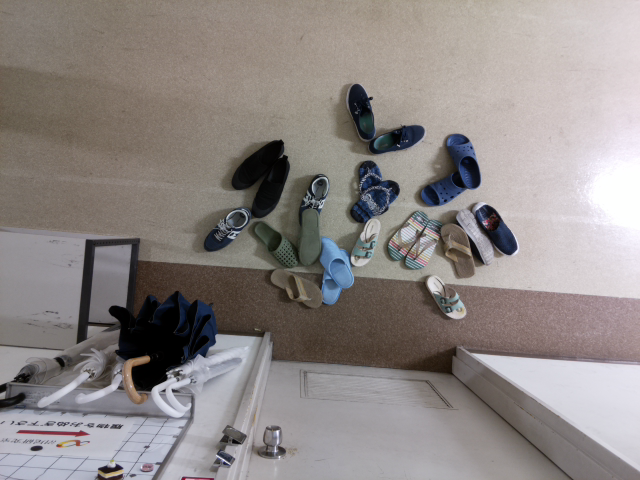Copy of Copy of Copy of Copy of Copy of Copy of Copy of Copy of Copy of Copy of: (247, 215, 300, 272), (347, 177, 403, 225), (400, 216, 446, 274), (385, 206, 430, 264), (364, 119, 429, 156), (419, 168, 475, 207), (355, 160, 390, 216)
Copy of Copy of Copy of Copy of Copy of Copy of Copy of Copy of Copy of shoe: (311, 245, 356, 308), (294, 170, 337, 229)
Copy of Copy of Copy of Copy of Copy of Copy of Copy of Copy of shoe: (284, 204, 330, 267), (200, 204, 252, 255)
Copy of Copy of Copy of Copy of Copy of Copy of Copy of shoe: (314, 230, 360, 293), (265, 265, 324, 313)
Copy of Copy of Copy of Copy of Copy of Copy of shoe: (437, 217, 483, 279), (347, 217, 384, 270)
Copy of Copy of Copy of Copy of Copy of shoe: (453, 206, 498, 269), (423, 271, 469, 325)
Copy of Copy of Copy of Copy of shoe: (469, 199, 521, 260)
Copy of Copy of Copy of shoe: (441, 129, 486, 192)
Copy of Copy of shoe: (340, 78, 382, 145)
Copy of shoe: (245, 153, 293, 223)
shoe: (227, 134, 289, 192)
